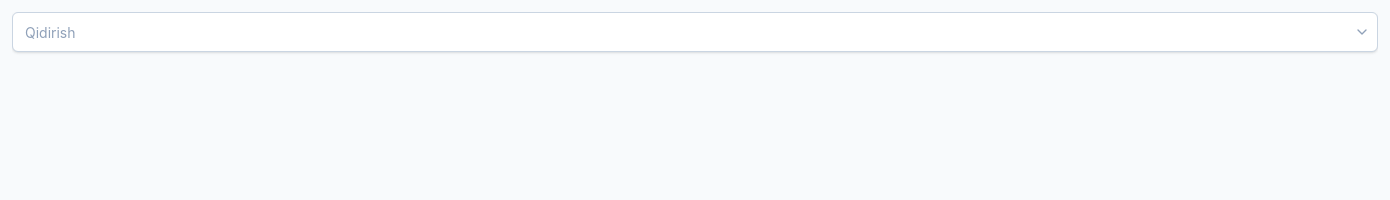
Test: Combobox › qidiradi va klaviatura bilan tanlaydi
The width and height of the screenshot is (1390, 200).
Focus the dropdown named "meva" at (695, 32), box [12,12,1378,52]
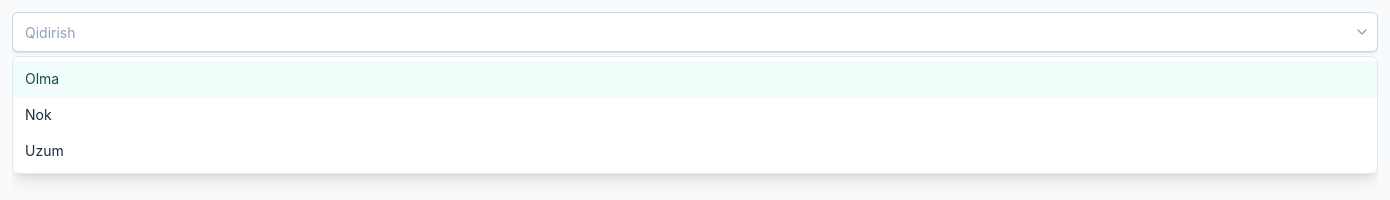
Result: the number of options is 3 at [13,61,1377,97]; [25,106,52,123]; [25,142,64,159]
Type "u" into the dropdown named "meva" at (695, 32), box [12,12,1378,52]
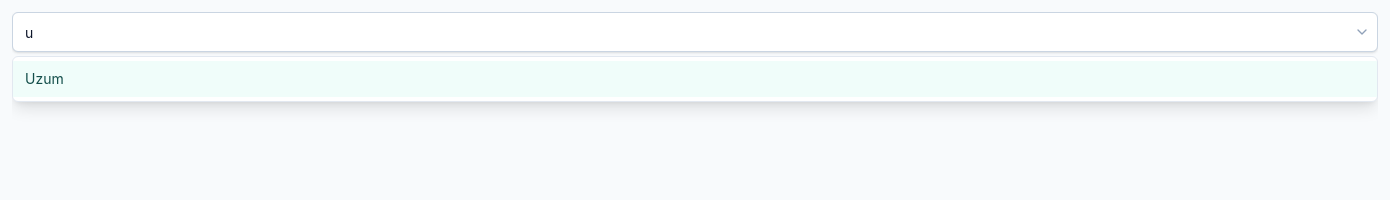
Result: the options read "Uzum", in this order at [13,61,1377,97]
Clear the dropdown named "meva" at (695, 32), box [12,12,1378,52]
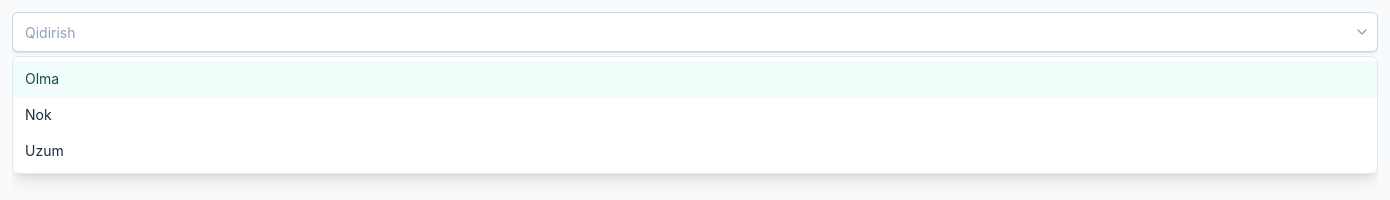
Press ArrowDown in the dropdown named "meva", box [12,12,1378,52]
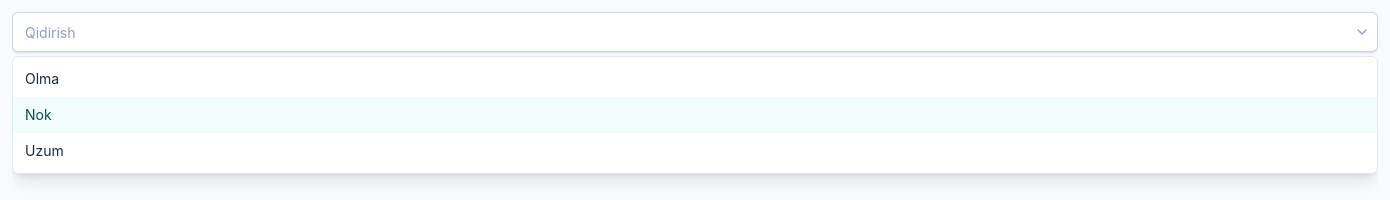
Press Enter in the dropdown named "meva", box [12,12,1378,52]
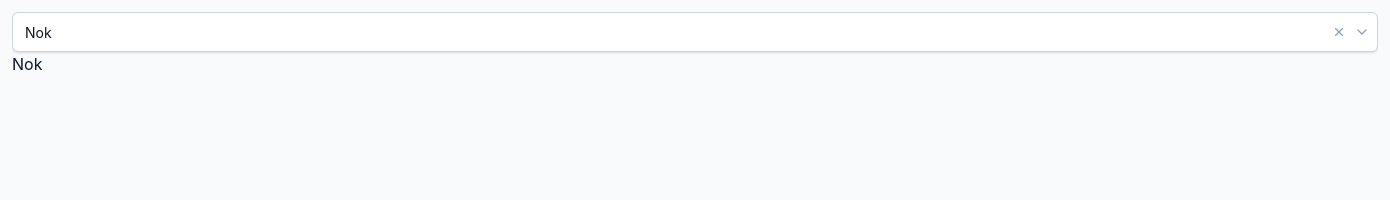
Result: the text with test id "value" reads "Nok" at [12,54,42,74]
Result: the list is gone
Result: the dropdown named "meva" holds "Nok" at [12,12,1378,52]
